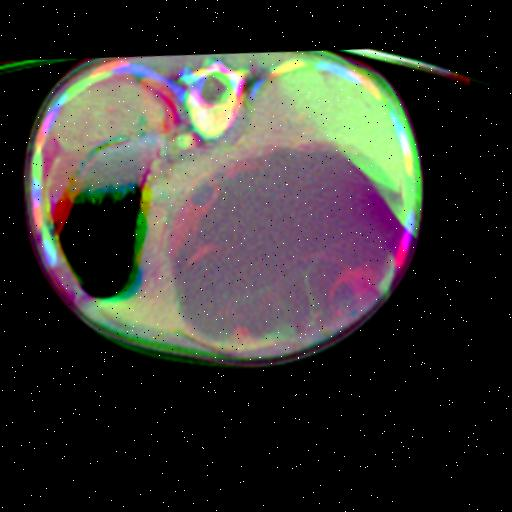Tumor: (179, 243, 275, 337)
